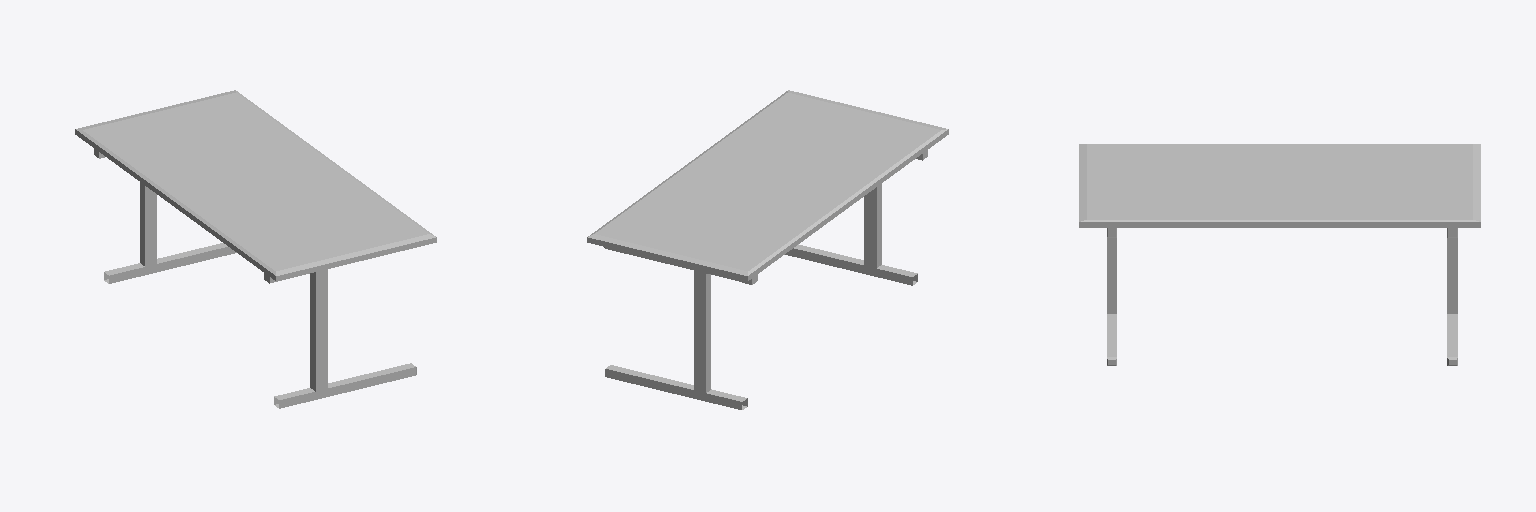
File: obj_mesa.obj
3 views of the same model, side by side, from view 1: azimuth 30°, elevation 25°; view 2: azimuth 150°, elevation 25°; view 3: azimuth 270°, elevation 25° (orthographic).
Parts seen in each view (by area): view 1: Cubo; view 2: Cubo; view 3: Cubo.
Boxes of the visible parts, <box> form: Cubo: <box>75,90,436,408</box>; Cubo: <box>587,90,948,409</box>; Cubo: <box>1079,144,1480,365</box>.
Bounding box in the file's own units: 1.01 × 0.8911 × 2.2.